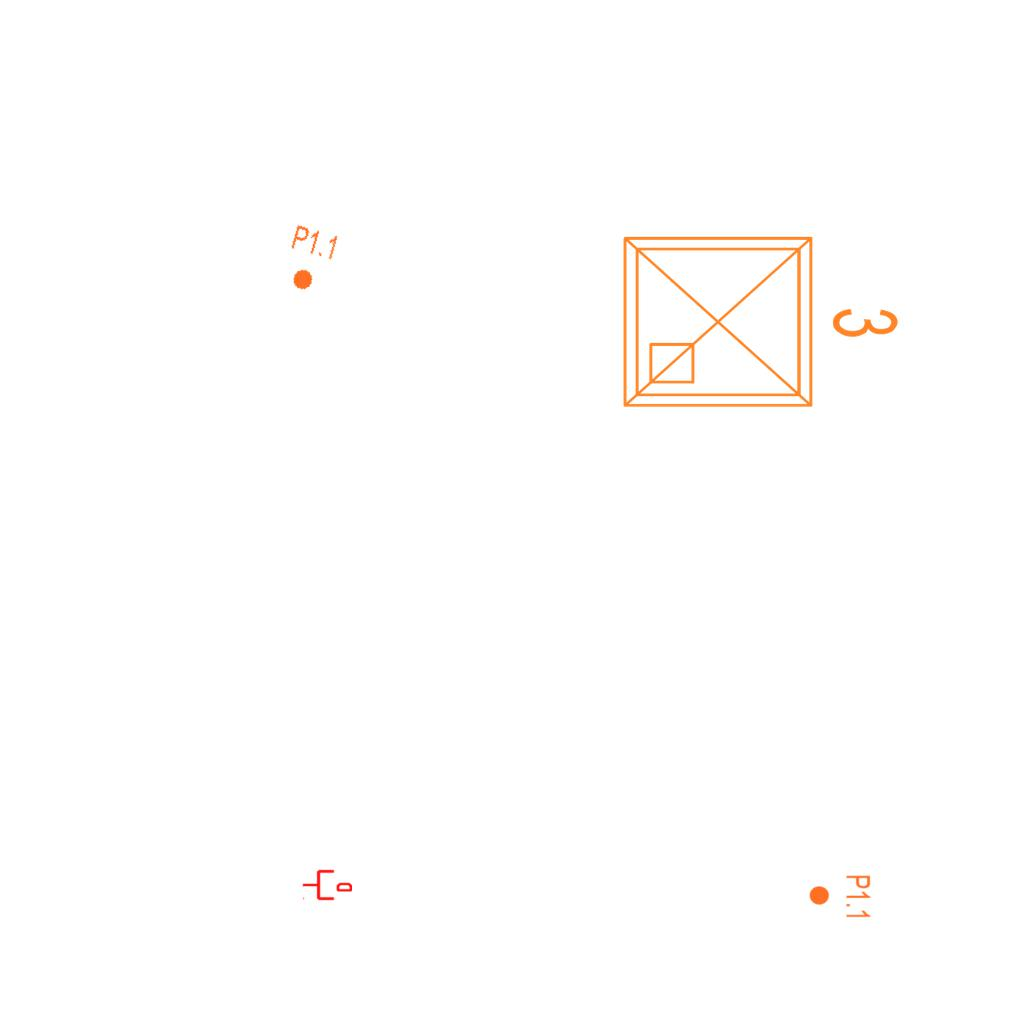Datenanschluss_einfach: (302, 868, 352, 902)
Downlight_LED_Einbauleuchten_Flur: (279, 222, 341, 298), (808, 874, 872, 920)
Einbaudownlights_LED_Konferenzraeume: (609, 214, 909, 422)
